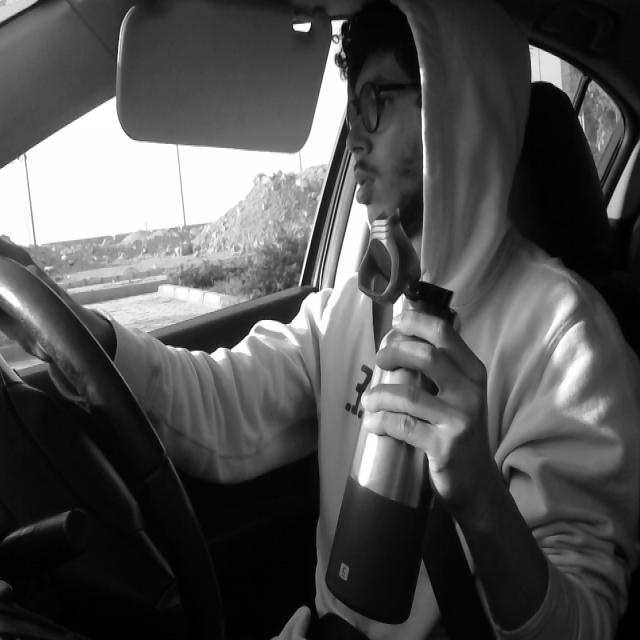drinking: (323, 206, 463, 622)
